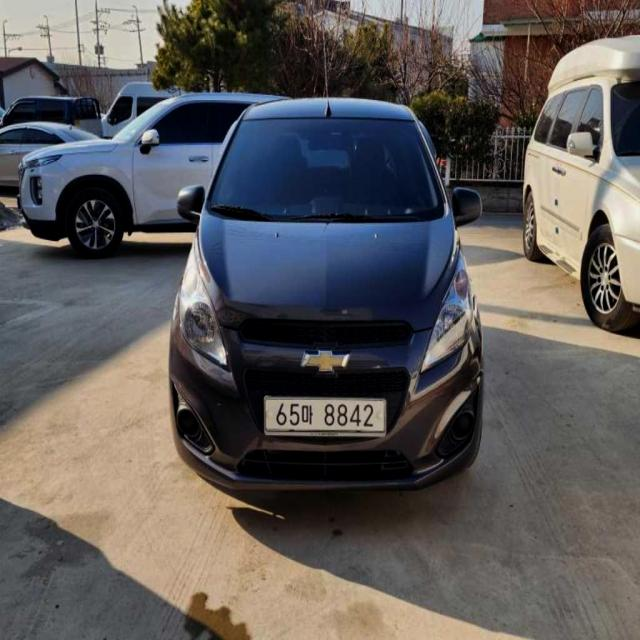car: (162, 90, 489, 500)
illegal_plate: (262, 392, 390, 442)
